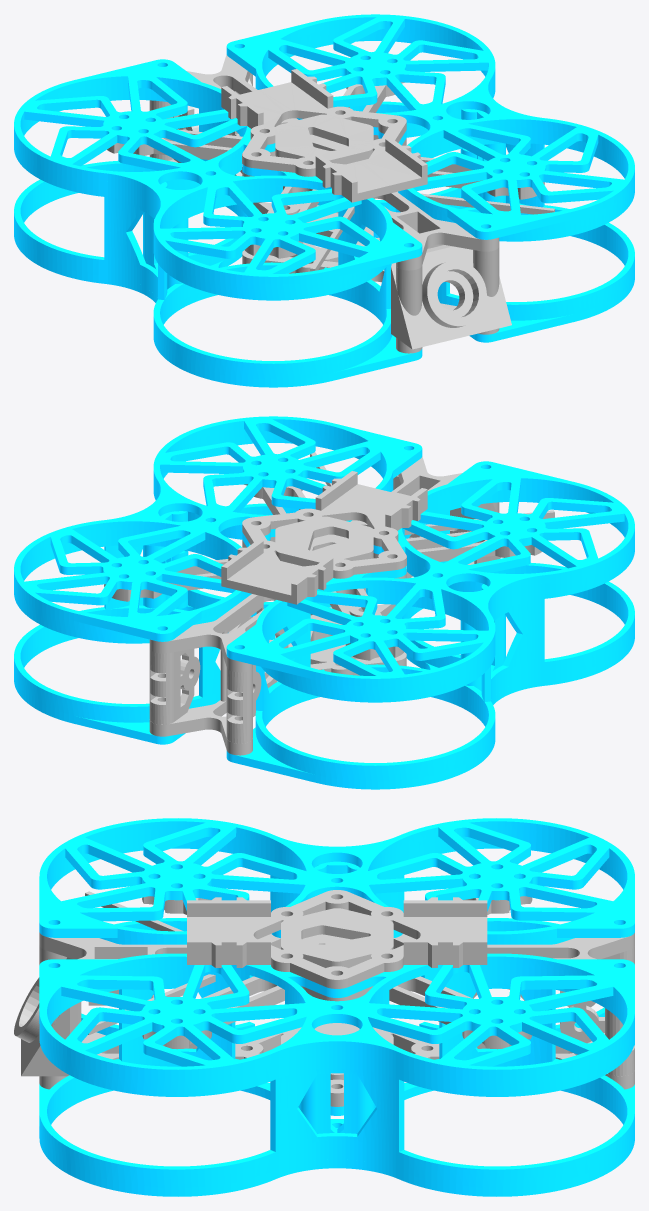
File: bateleur.v0.2.blue.gltf
3 renders of one model, top to bottom at view 1: azimuth 30°, elevation 25°; view 2: azimuth 150°, elevation 25°; view 3: azimuth 270°, elevation 25°, orthographic. The views are drawn at different scales.
Visible parts, largest first — view 1: Propguards, Batteryplate, Coretop, Antennamount, Corebottom, Camerabrackets; view 2: Propguards, Batteryplate, Coretop, Camerabrackets, Corebottom, Antennamount; view 3: Propguards, Batteryplate, Coretop, Corebottom, Antennamount, Camerabrackets.
Part boxes in pixels (<box>): Propguards: <box>14,14,634,387</box>; Batteryplate: <box>221,69,427,202</box>; Coretop: <box>107,54,554,271</box>; Antennamount: <box>391,245,511,349</box>; Corebottom: <box>149,156,499,353</box>; Camerabrackets: <box>149,73,252,162</box>; Propguards: <box>14,416,634,789</box>; Batteryplate: <box>221,471,427,604</box>; Coretop: <box>104,452,554,703</box>; Camerabrackets: <box>149,648,261,743</box>; Corebottom: <box>149,561,474,755</box>; Antennamount: <box>393,475,501,563</box>; Propguards: <box>39,818,634,1196</box>; Batteryplate: <box>187,890,487,988</box>; Coretop: <box>39,891,634,1049</box>; Corebottom: <box>39,1023,634,1106</box>; Antennamount: <box>14,945,81,1076</box>; Camerabrackets: <box>560,946,634,1076</box>.
Bounding box in the file's own units: 119 × 33 × 124.
